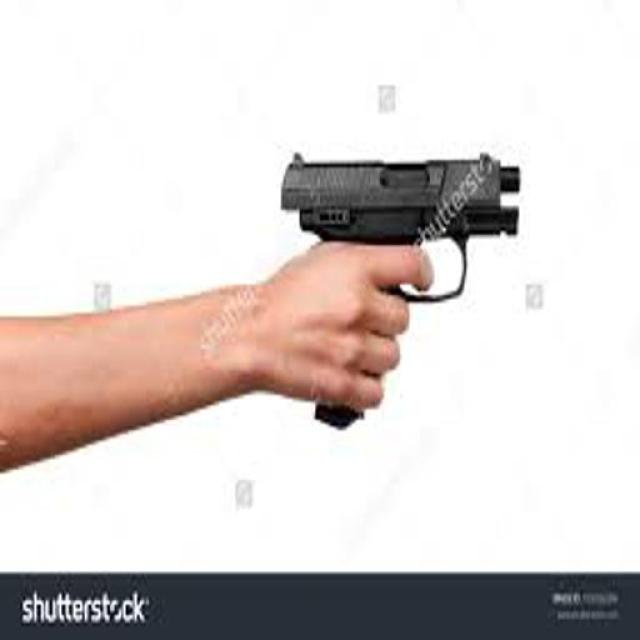pistol: (276, 141, 520, 440)
